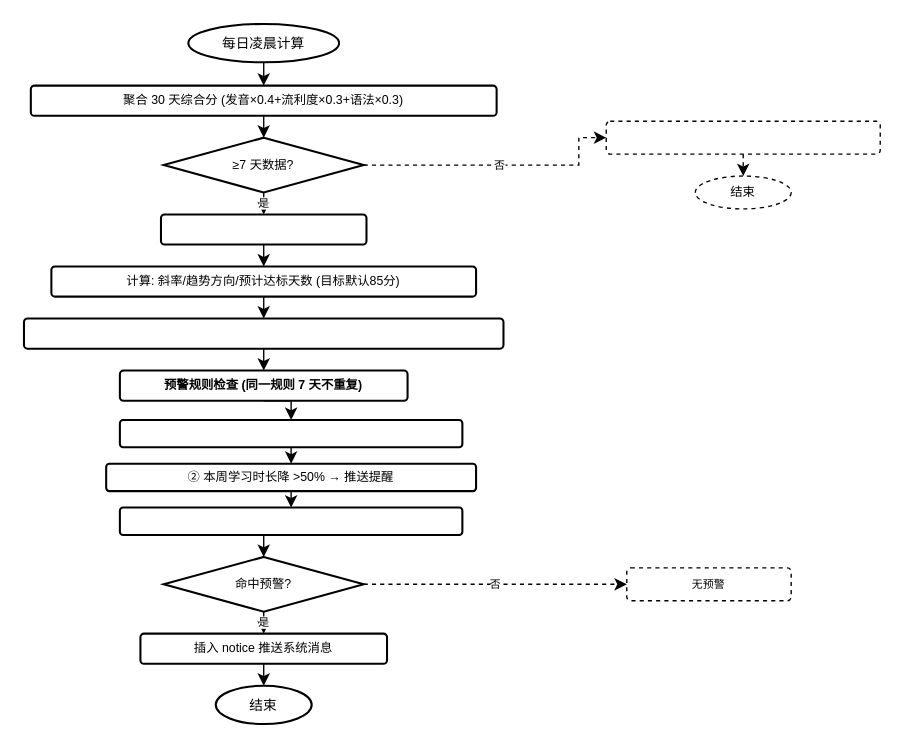
The diagram is 906 pixels wide and 749 high, and some of its shapes have lost their labels. The shapes that lost their labels are listed below. From the top down, each one's centre as x and y in pixels, then its label:
the point at 742,137: 引导「数据积累中，学习满7天后预测」
the point at 263,229: 线性回归拟合趋势线
the point at 263,333: 写入 learning_predictions (分数/斜率/目标/预计天数/趋势+文案)
the point at 290,433: ① 连续 3 天未学习 → 推送提醒
the point at 290,520: ③ 发音分 7 天未提升 → 推送提醒
